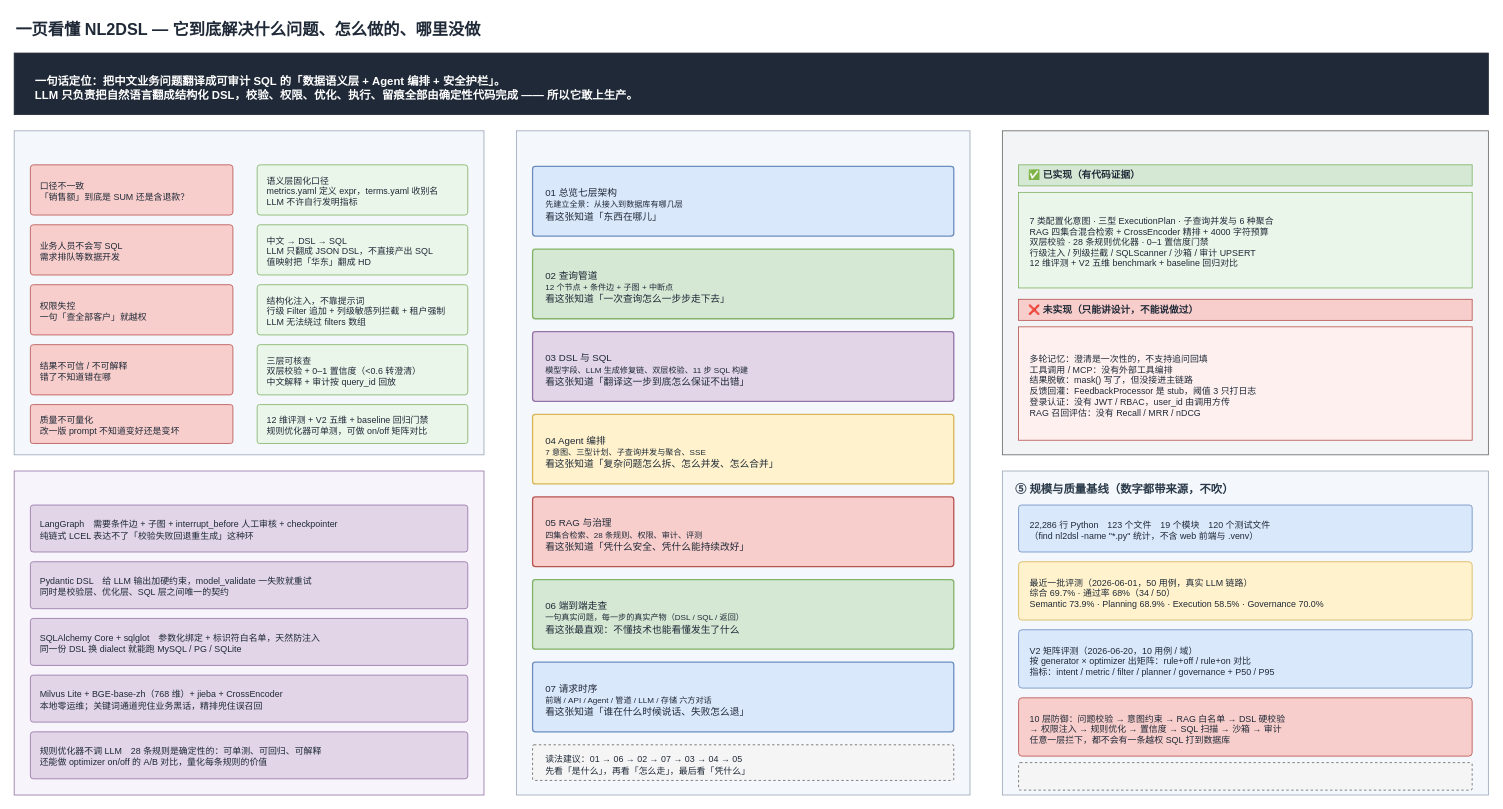
Some shapes in this 1503 by 809 pixel diagram are drawn without their labels. Each missing label, with the box of its shape:
① 五个真实痛点 → 五个设计选择: (13, 130, 484, 455)
② 为什么这么选（每条都是被问题逼出来的）: (13, 470, 484, 795)
③ 五张图怎么读（按顺序看就懂了）: (516, 130, 970, 795)
④ 能力边界：哪些能说「我做过」，哪些只能说「我知道怎么做」: (1002, 130, 1488, 455)
诚实说明：69.7% 是「语义 + 执行 + 治理」综合分，不是准确率； Execution 58.5% 偏低，主因是样本库与真实库数据分布不一致: (1018, 762, 1472, 790)
